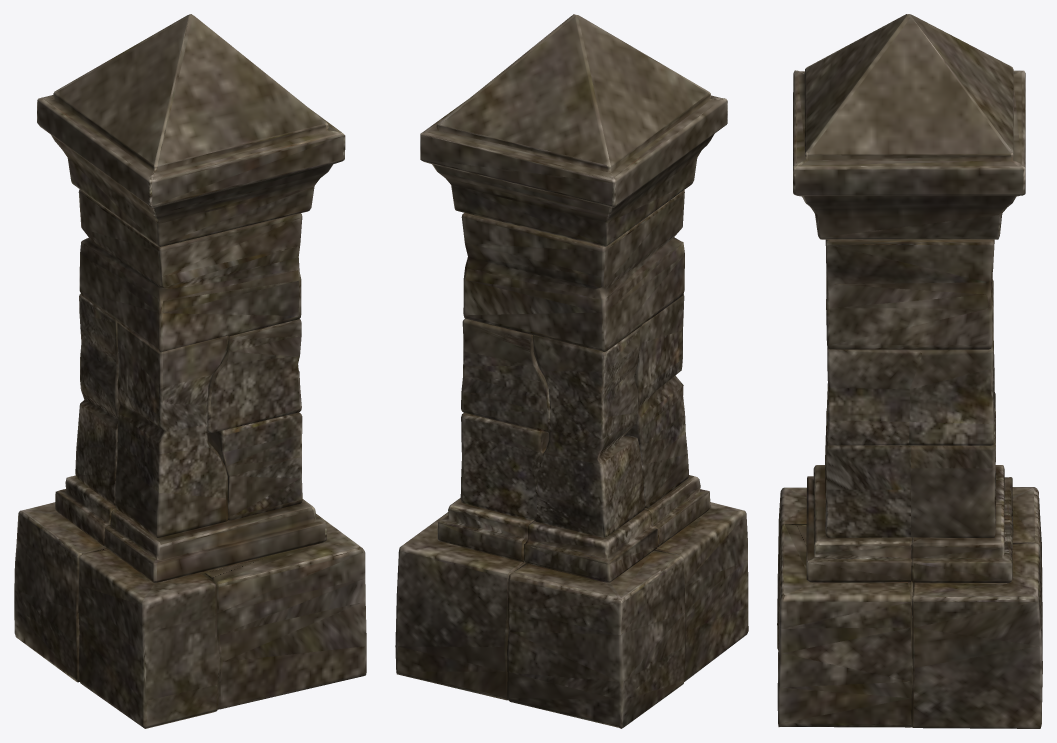
The model's file is h_fence_pillar.glb.
The picture shows the model from 3 angles, left to right: view 1: azimuth 30°, elevation 25°; view 2: azimuth 150°, elevation 25°; view 3: azimuth 270°, elevation 25°; orthographic projection. The views are drawn at different scales.
Visible parts, largest first — view 1: h_fence_pillar; view 2: h_fence_pillar; view 3: h_fence_pillar.
Boxes of the visible parts, x1,y1,x2,y2 form: h_fence_pillar: (14,14,366,728); h_fence_pillar: (395,14,748,728); h_fence_pillar: (777,14,1042,728).
Size of the model in its own units: 0.8186 by 2.2 by 0.8055.
1 material, 1 textured.
